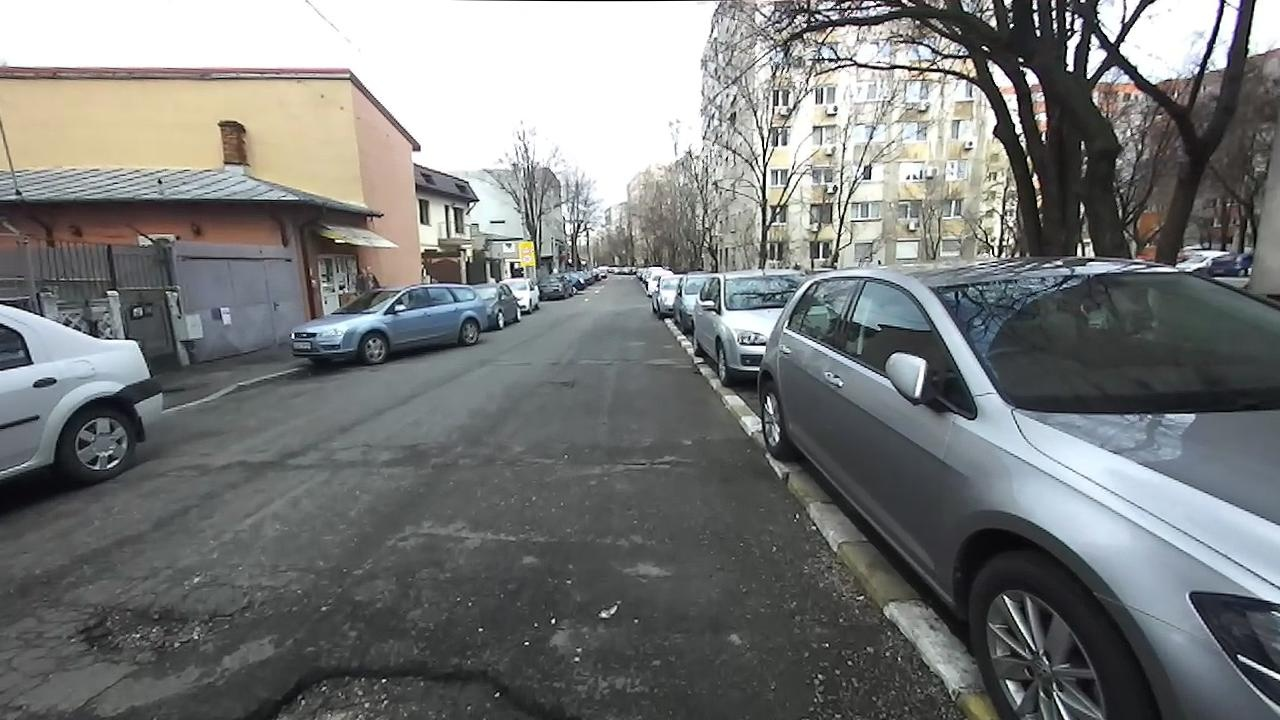pothole: (216, 656, 581, 720), (64, 594, 249, 665), (602, 451, 688, 475)
